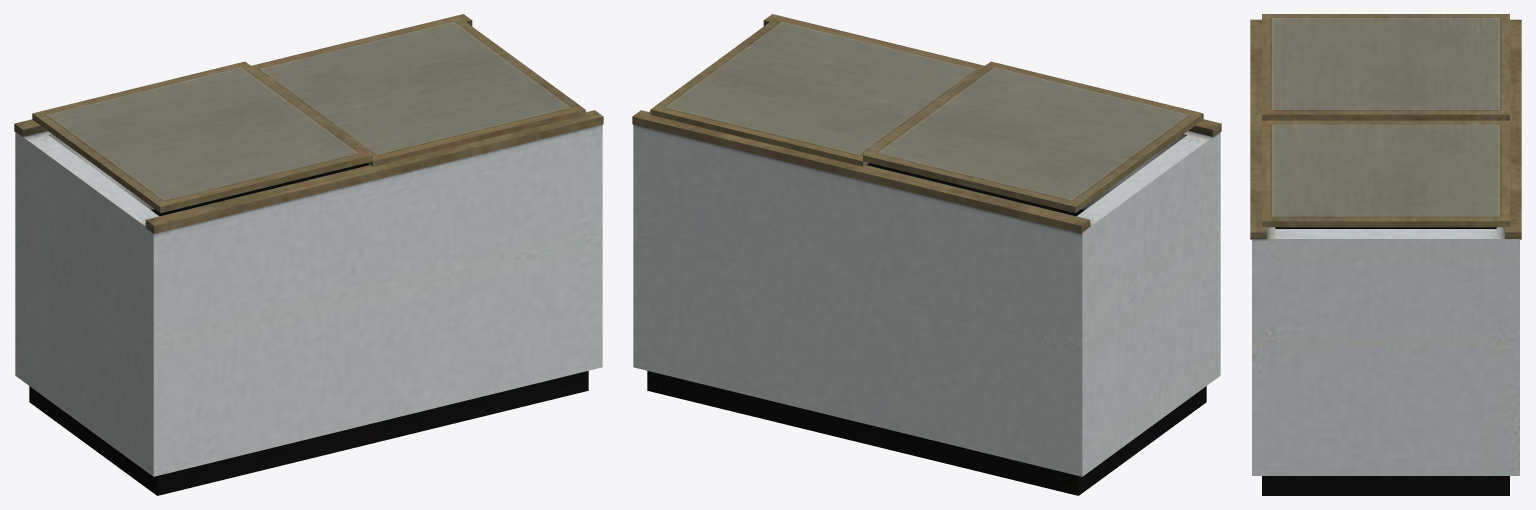
Rendered from chest_freezer_lod1_web.glb.
3 renders of one model, left to right at view 1: azimuth 30°, elevation 25°; view 2: azimuth 150°, elevation 25°; view 3: azimuth 270°, elevation 25°, orthographic. The views are drawn at different scales.
Visible parts, largest first — view 1: ChestFreezer_Body, Slide_R_Frame, Slide_L_Frame, Glass_Lid_L, Glass_Lid_R; view 2: ChestFreezer_Body, Slide_R_Frame, Slide_L_Frame, Glass_Lid_L, Glass_Lid_R; view 3: ChestFreezer_Body, Slide_L_Frame, Slide_R_Frame, Glass_Lid_L, Glass_Lid_R.
Boxes of the visible parts, bbox=[...] form: ChestFreezer_Body: bbox=[14, 14, 603, 495]; Slide_R_Frame: bbox=[32, 61, 372, 212]; Slide_L_Frame: bbox=[251, 16, 585, 166]; Glass_Lid_L: bbox=[260, 22, 570, 154]; Glass_Lid_R: bbox=[47, 67, 357, 200]; ChestFreezer_Body: bbox=[632, 14, 1221, 495]; Slide_R_Frame: bbox=[863, 61, 1203, 212]; Slide_L_Frame: bbox=[650, 16, 984, 166]; Glass_Lid_L: bbox=[665, 22, 975, 154]; Glass_Lid_R: bbox=[878, 67, 1188, 200]; ChestFreezer_Body: bbox=[1250, 19, 1521, 495]; Slide_L_Frame: bbox=[1262, 120, 1509, 227]; Slide_R_Frame: bbox=[1262, 14, 1509, 120]; Glass_Lid_L: bbox=[1272, 125, 1499, 216]; Glass_Lid_R: bbox=[1272, 18, 1499, 109].
Size of the model in its own units: 1.5 by 0.921 by 0.81.
Materials: 2 (1 with a texture image).
